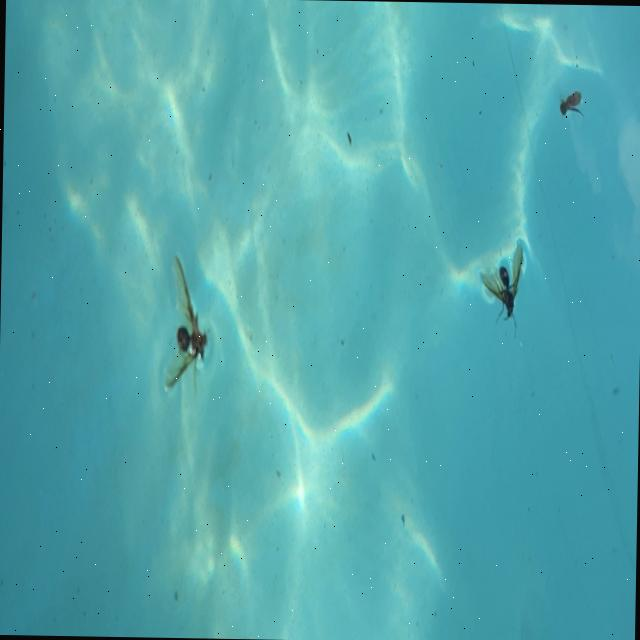Dead-Male-Alate: (165, 255, 208, 392), (480, 245, 522, 338)
